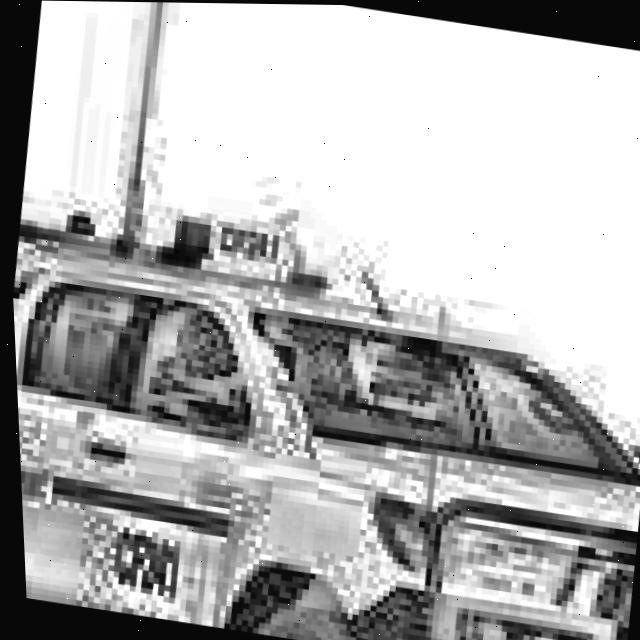light_vehicle: (5, 139, 640, 640)
